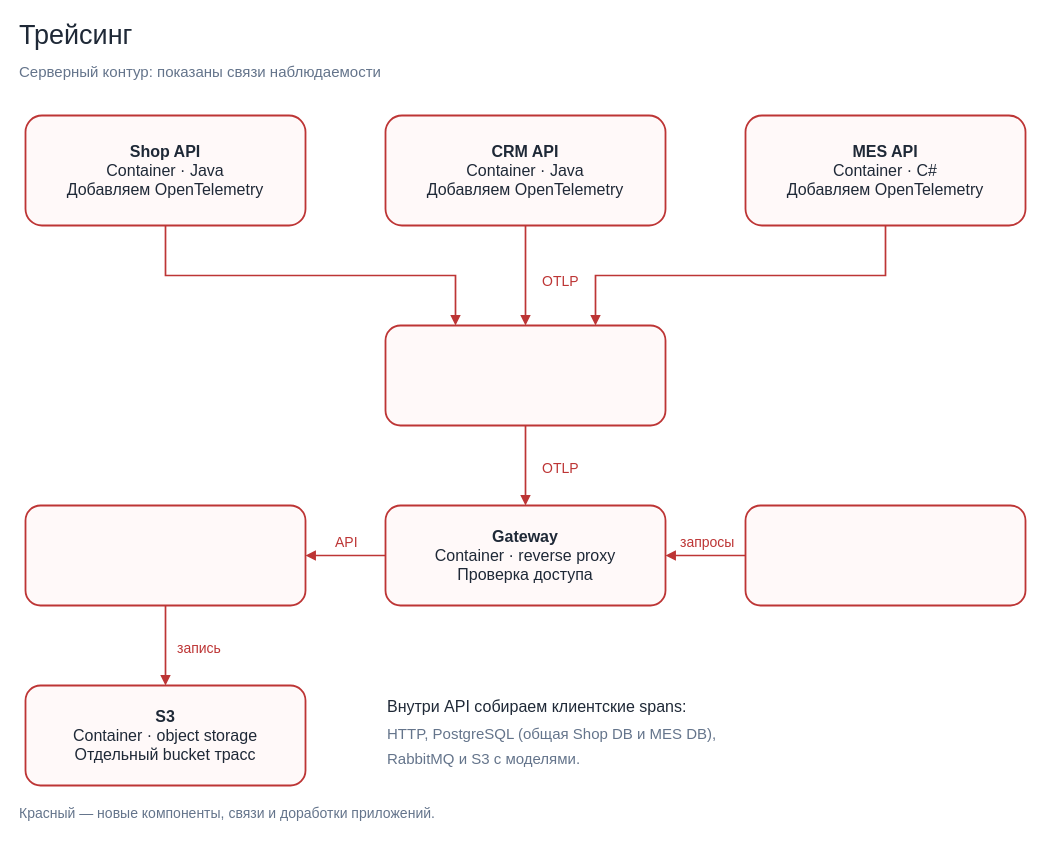
Some shapes in this 1043 by 841 pixel diagram are drawn without their labels. The shapes that lost their labels are listed below. From the top down, each one's centre as x and y in pixels, then its label:
At (525,375): "OTel Collector Container Приём и обработка spans".
At (165,555): "Tempo Container Хранение трасс".
At (885,555): "Grafana Container Поиск и просмотр".
